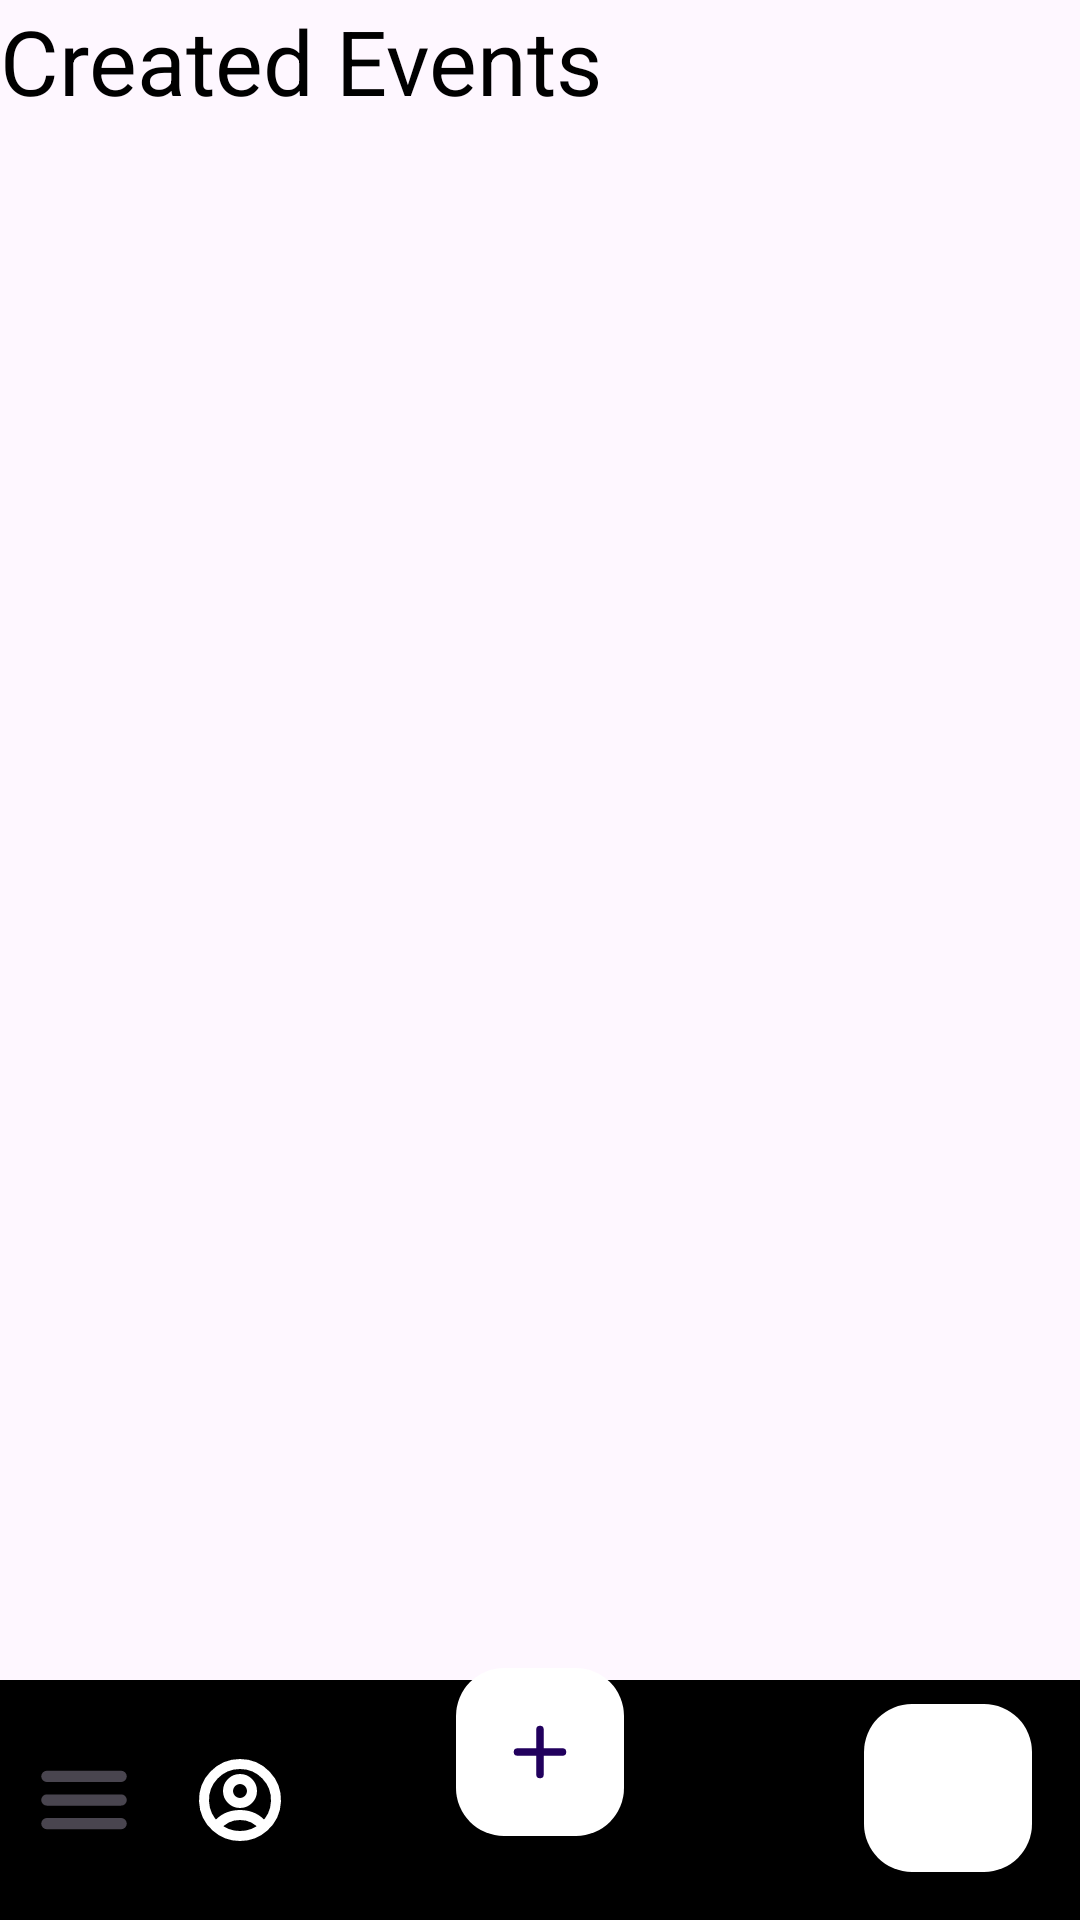

Icons on this 1080*1920 Android screen, each with its box as (x1, y1, x2, y2):
Them moi: (456, 1704, 624, 1836)
